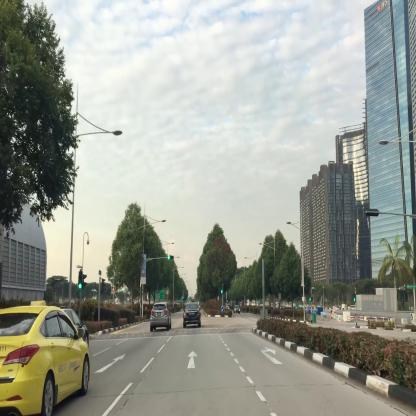green_traffic_light: (79, 271, 82, 288), (168, 256, 173, 260), (221, 284, 223, 294)
